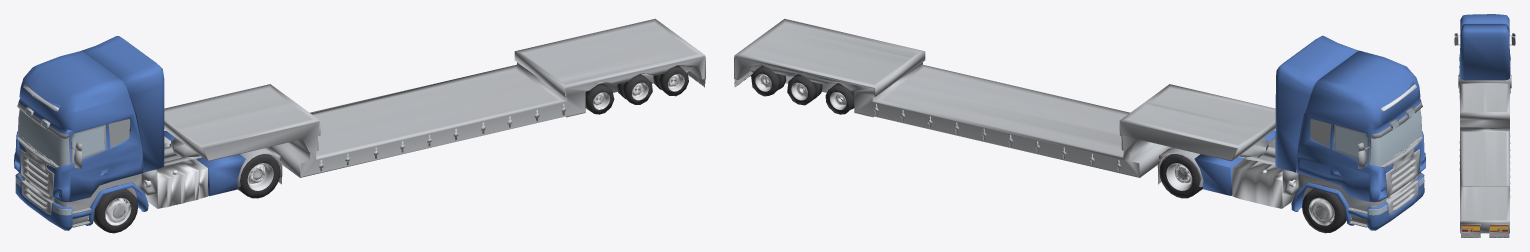
The model's file is archmodels55-19.glb.
3 renders of one model, left to right at view 1: azimuth 30°, elevation 25°; view 2: azimuth 150°, elevation 25°; view 3: azimuth 270°, elevation 25°, orthographic. The views are drawn at different scales.
Parts seen in each view (by area): view 1: Archmodels55_19_trailer, Archmodels55_19_carpaint, Archmodels55_19_frame, Archmodels55_19_chrome, Archmodels55_19_glass, Archmodels55_19_tires, Archmodels55_19_tires_trailer, Archmodels55_19_grill, Archmodels55_19_rims_trailer, Archmodels55_19_rims; view 2: Archmodels55_19_trailer, Archmodels55_19_carpaint, Archmodels55_19_frame, Archmodels55_19_chrome, Archmodels55_19_glass, Archmodels55_19_tires, Archmodels55_19_tires_trailer, Archmodels55_19_grill, Archmodels55_19_rims_trailer, Archmodels55_19_rims; view 3: Archmodels55_19_trailer, Archmodels55_19_carpaint, Archmodels55_19_frame, Archmodels55_19_splash_shield_trailer, Archmodels55_19_yellow, Archmodels55_19_red, Archmodels55_19_mirrors, Archmodels55_19_red_lights_trailer.
Part boxes in pixels (x1,y1,x2,y2): Archmodels55_19_trailer: [164, 18, 705, 177]; Archmodels55_19_carpaint: [14, 36, 245, 230]; Archmodels55_19_frame: [17, 93, 282, 226]; Archmodels55_19_chrome: [23, 84, 252, 227]; Archmodels55_19_glass: [15, 109, 104, 215]; Archmodels55_19_tires: [93, 154, 280, 233]; Archmodels55_19_tires_trailer: [585, 65, 688, 114]; Archmodels55_19_grill: [17, 139, 58, 214]; Archmodels55_19_rims_trailer: [593, 73, 684, 109]; Archmodels55_19_rims: [247, 163, 273, 190]; Archmodels55_19_trailer: [734, 18, 1275, 177]; Archmodels55_19_carpaint: [1194, 35, 1425, 230]; Archmodels55_19_frame: [1157, 96, 1422, 226]; Archmodels55_19_chrome: [1181, 84, 1416, 227]; Archmodels55_19_glass: [1335, 108, 1424, 215]; Archmodels55_19_tires: [1159, 154, 1346, 233]; Archmodels55_19_tires_trailer: [751, 65, 854, 114]; Archmodels55_19_grill: [1381, 139, 1422, 214]; Archmodels55_19_rims_trailer: [755, 73, 846, 109]; Archmodels55_19_rims: [1166, 163, 1192, 190]; Archmodels55_19_trailer: [1459, 83, 1510, 233]; Archmodels55_19_carpaint: [1459, 14, 1510, 93]; Archmodels55_19_frame: [1454, 33, 1515, 88]; Archmodels55_19_splash_shield_trailer: [1461, 232, 1509, 237]; Archmodels55_19_yellow: [1462, 226, 1508, 230]; Archmodels55_19_red: [1462, 225, 1508, 231]; Archmodels55_19_mirrors: [1455, 34, 1514, 45]; Archmodels55_19_red_lights_trailer: [1462, 229, 1507, 231].
Bounding box in the file's own units: 18.1 × 4.1 × 2.97.
